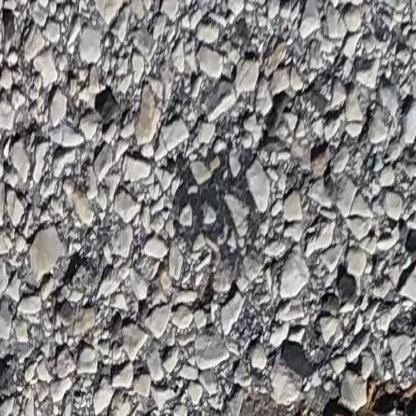Cracks: (239, 381, 416, 416)
